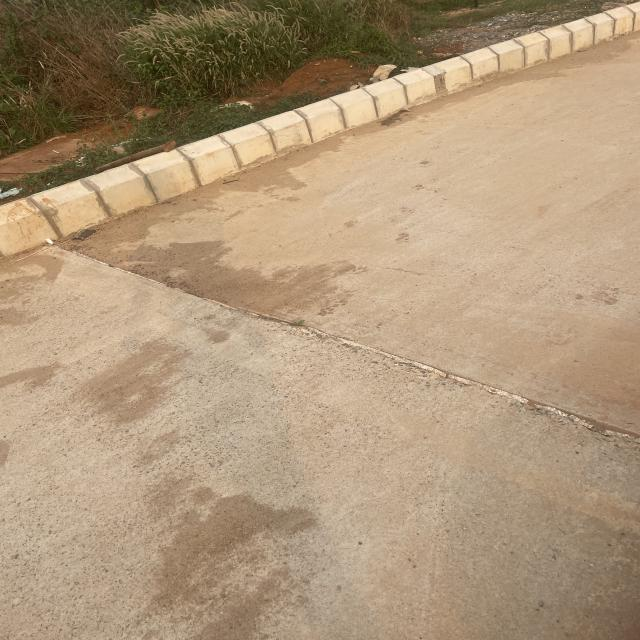D40: (59, 234, 631, 462)
